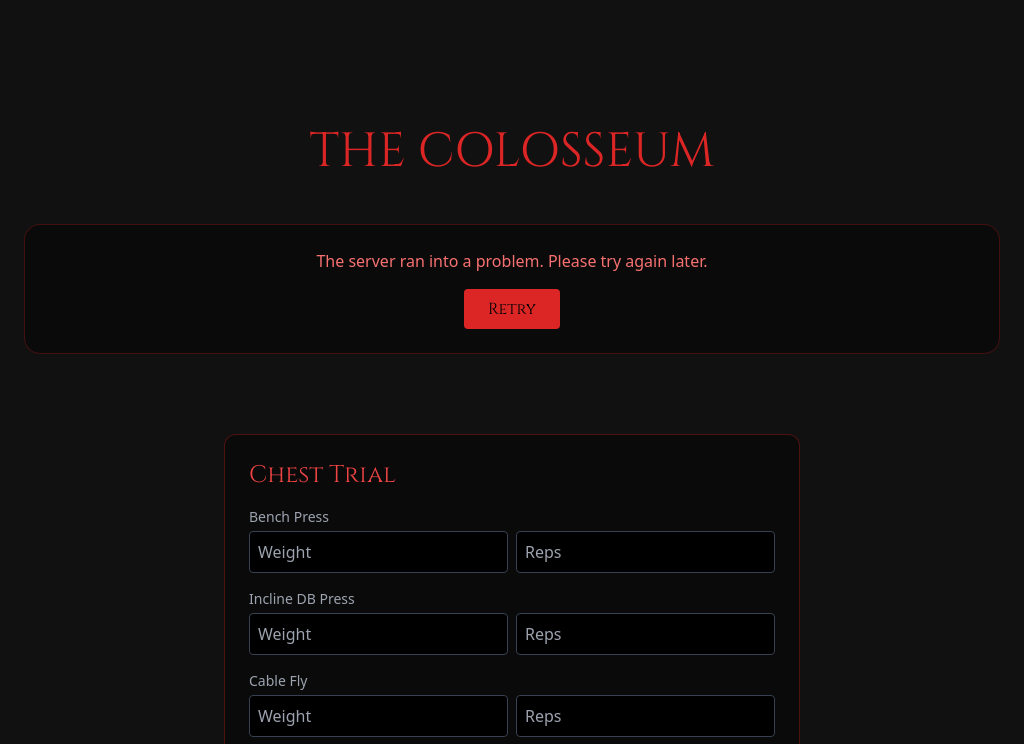
Test: ColosseumPage leaderboard › shows the error and a Retry button when the request fails, and recovers on retry
Expected: the message reads "The server ran into a problem. Please try again later.", [316,250,708,272]
Click the button "Retry". click: (512, 309)
box: [464,289,560,329]
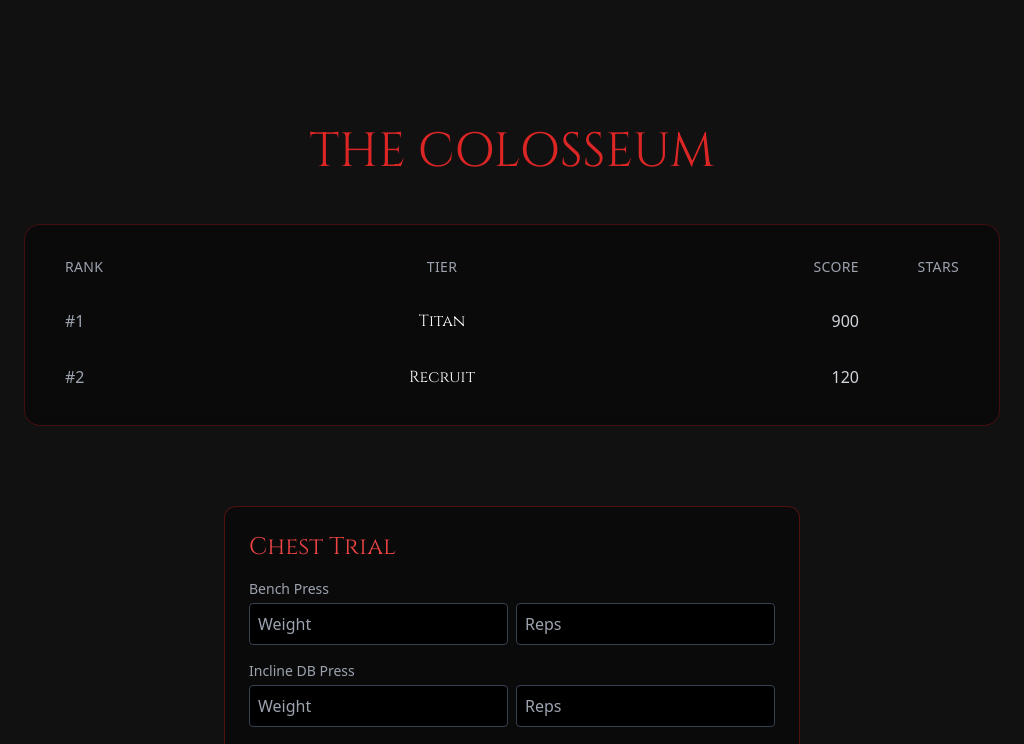
Result: the text "#1" is shown at [65,310,84,332]
Result: the text "Titan" is shown at [419,310,465,332]
Result: the message "The server ran into a problem. Please try again later." is gone
